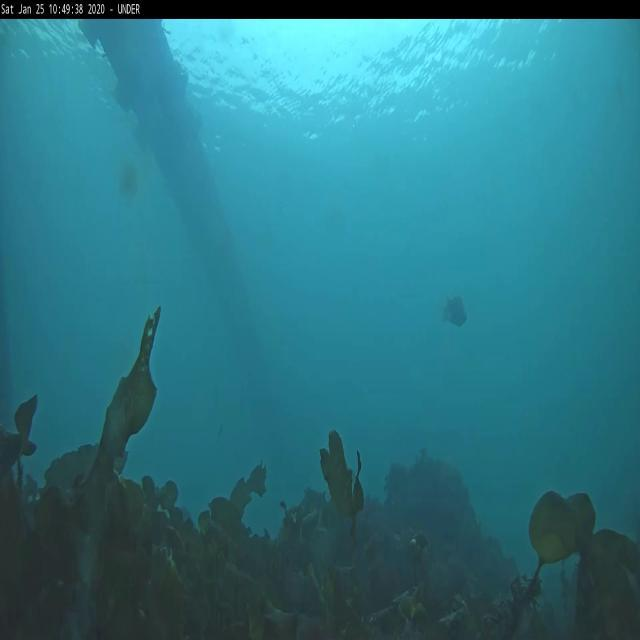fish: (441, 292, 472, 328)
